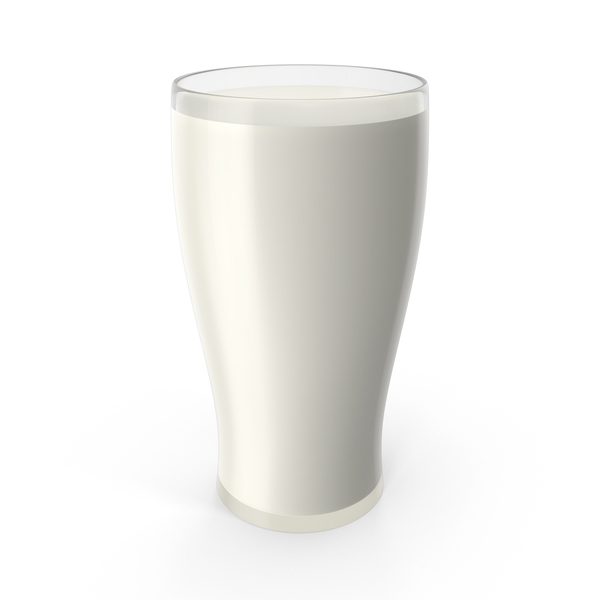glass of milk: (159, 66, 428, 539)
